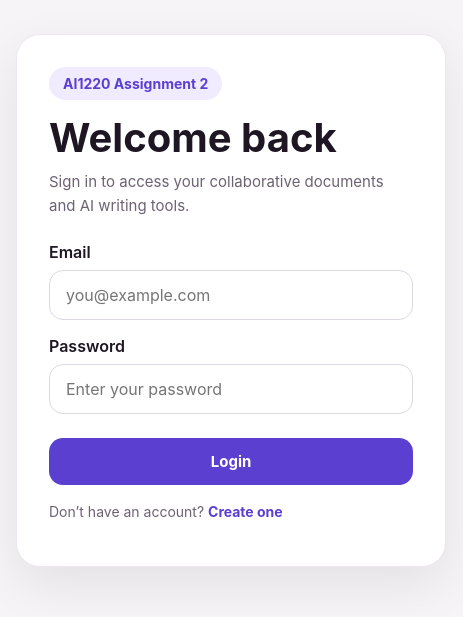
Test: shows an inline error when login fails
The image size is (463, 617).
Type "alice@example.com" into the field named "Email" at x=231, y=294, box [49,270,413,320]
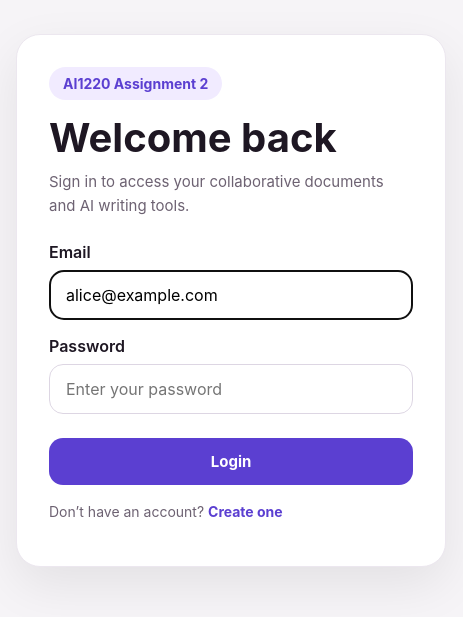
Type "wrong-pass-123" into the password field labelled "password" at x=231, y=388, box [49,364,413,414]
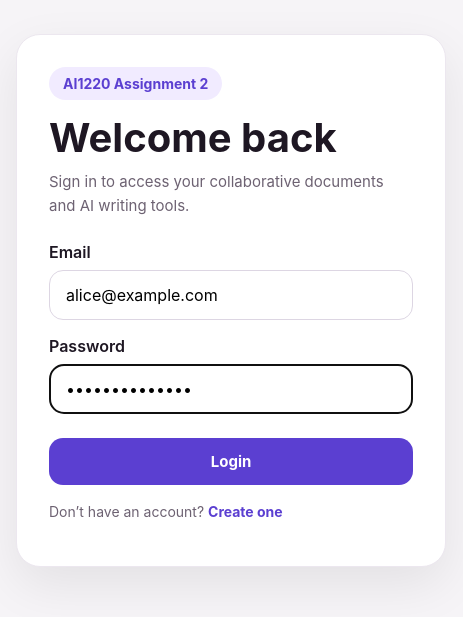
Click the button "Login" at x=231, y=461, box [49,438,413,484]
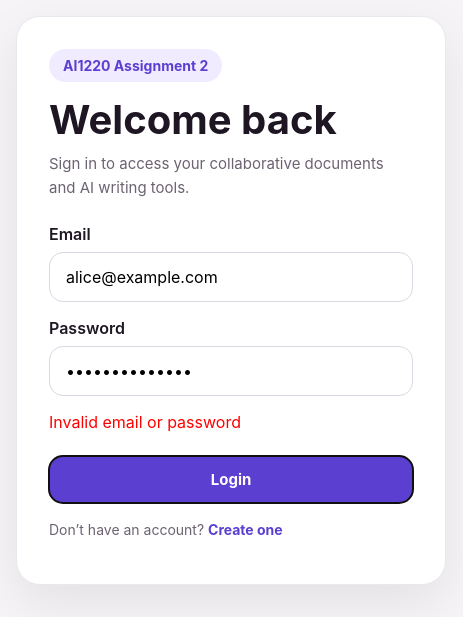
Result: the text "Invalid email or password" is shown at [49,412,241,432]
